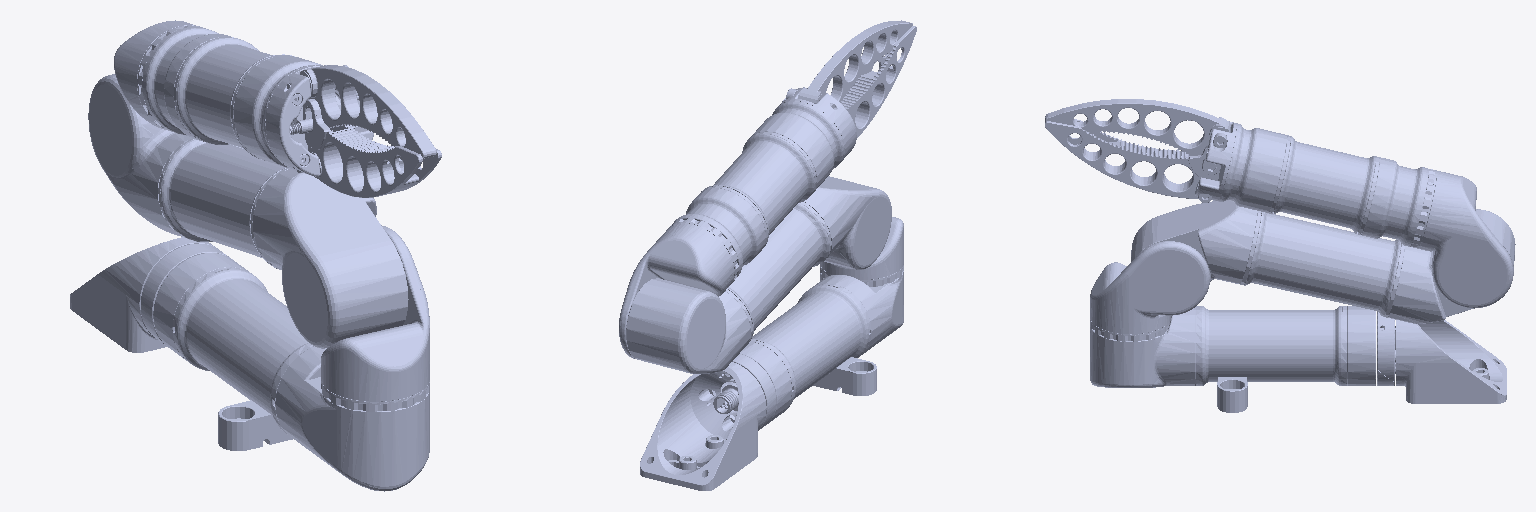
The robot description file, URDF, robot "reachAlpha":
<?xml version="1.0" encoding="utf-8"?>
<!-- This URDF was automatically created by SolidWorks to URDF Exporter! Originally created by [author] ([email redacted]) 
     Commit Version: 1.6.0-1-g15f4949  Build Version: 1.6.7594.29634
     For more information, please see http://wiki.ros.org/sw_urdf_exporter -->
<robot name="reachAlpha">

    <link name="world"/>
    <joint name="fixed" type="fixed">
      <parent link="world" />
      <child link="first_link" />
      <origin xyz="0.0 0.0 0.0" rpy="0 -1.57 0" />
    </joint>

    <!--___________________________________________________________________________________________________________________-->
    <!-- LINK: FIRST LINK-->
    <link name="first_link">
      <inertial>
        <origin xyz="0.16236 0.16631 -0.070717" rpy="0 0 0"/>
        <mass value="0.59681" />
        <inertia ixx="0.0016912" ixy="0.0" ixz="0.00039211" iyy="0.0034071" iyz="0.0" izz="0.0018492" />
      </inertial>

      <visual>
        <origin xyz="0 0 0" rpy="0 0 0" />
        <geometry>
          <mesh filename="package://reachAlpha/meshes/first_link.STL"/>
        </geometry>
        <material name="">
          <color rgba="0.79216 0.81961 0.93333 1" />
        </material>
      </visual>
      
      <collision>
        <origin xyz="0 0 0" rpy="0 0 0" />
        <geometry>
          <mesh filename="package://reachAlpha/meshes/first_link.STL" />
        </geometry>
      </collision>
    </link>


    <!--___________________________________________________________________________________________________________________-->
    <!-- LINK: SECOND LINK-->
    <link name="second_link">
      <inertial>
        <origin xyz="0.033 -0.013895 -0.02" rpy="0 0 0" />
        <mass value="0.15" />
        <inertia ixx="0.0008" ixy="0.0" ixz="0.00019" iyy="0.00019" iyz="0.0" izz="0.0009"/>
      </inertial>
      
      <visual>
        <origin xyz="0 0 0" rpy="0 0 0"/>
        <geometry>
          <mesh filename="package://reachAlpha/meshes/second_link.STL" />
        </geometry>
        <material name="">
          <color rgba="0.79216 0.81961 0.93333 1" />
        </material>
      </visual>

      <collision>
        <origin xyz="0 0 0" rpy="0 0 0" />
        <geometry>
          <mesh filename="package://reachAlpha/meshes/second_link.STL" />
        </geometry>
      </collision>
    </link>

    <!-- JOINT: FIRST TO SECOND-->
    <joint name="first_to_second" type="revolute">
      <origin xyz="0.11187 -0.0032667 0.16685" rpy="1.5412 0 0"/>
      <parent link="first_link"/>
      <child link="second_link"/>
      <axis xyz="1 0 0" />
      <limit lower="-3.14159265" upper="3.14159265" effort="150.0" velocity="3.5" />
    </joint>

    <!--___________________________________________________________________________________________________________________-->
    <!-- LINK: THIRD LINK-->
    <link name="third_link">
      <inertial>
        <origin xyz="0.020201 -0.013885 -0.07338" rpy="0 0 0" />
        <mass value="0.59681" />
        <inertia ixx="0.0016912" ixy="0.0" ixz="0.00039211" iyy="0.0034071" iyz="0.0" izz="0.0018492" />
      </inertial>

      <visual>
        <origin xyz="0 0 0" rpy="0 0 0" />
        <geometry>
          <mesh filename="package://reachAlpha/meshes/third_link.STL" />
        </geometry>
        <material name="">
          <color rgba="0.79216 0.81961 0.93333 1" />
        </material>
      </visual>

      <collision>
        <origin xyz="0 0 0" rpy="0 0 0" />
        <geometry>
          <mesh filename="package://reachAlpha/meshes/third_link.STL" />
        </geometry>
      </collision>
    </link>

    <!-- JOINT: SECOND TO THIRD-->
    <joint name="second_to_third" type="revolute">
      <origin xyz="0.033 0 -0.02" rpy="0 0.23064 0" />
      <parent link="second_link" />
      <child link="third_link" />
      <axis xyz="0 1 0" />
      <limit lower="-2.1" upper="1.33" effort="150.0" velocity="3.5" />
    </joint>

    <!--___________________________________________________________________________________________________________________-->
    <!-- LINK: FORTH LINK-->
    <link name="forth_link">
      <inertial>
        <origin xyz="0 -0.013895 -2.7756E-17" rpy="0 0 0" />
        <mass value="0.15" />
        <inertia ixx="0.0008" ixy="0.0" ixz="0.00019" iyy="0.00019" iyz="0.0" izz="0.0009"/>
      </inertial>

      <visual>
        <origin xyz="0 0 0" rpy="0 0 0" />
        <geometry>
          <mesh filename="package://reachAlpha/meshes/forth_link.STL" />
        </geometry>
        <material name="">
          <color rgba="0.79216 0.81961 0.93333 1" />
        </material>
      </visual>

      <collision>
        <origin xyz="0 0 0" rpy="0 0 0" />
        <geometry>
          <mesh filename="package://reachAlpha/meshes/forth_link.STL" />
        </geometry>
      </collision>
    </link>

    <!-- JOINT: THIRD TO FORTH-->
    <joint name="third_to_forth" type="revolute">
      <origin xyz="0.04 0 -0.1453" rpy="0 0 0" />
      <parent link="third_link" />
      <child link="forth_link" />
      <axis xyz="0 1 0" />
      <limit lower="0" upper="3.48159265" effort="150.0" velocity="3.5" />
    </joint>

    <!--___________________________________________________________________________________________________________________-->
    <!-- LINK: FIFTH LINK-->
    <link name="fifth_link">
      <inertial>
        <origin xyz="-0.066779 0.0016758 0.051405" rpy="0 0 0" />
        <mass value="0.59681" />
        <inertia ixx="0.0016912" ixy="0.0" ixz="0.00039211" iyy="0.0034071" iyz="0.0" izz="0.0018492" />
      </inertial>

      <visual>
        <origin xyz="0 0 0" rpy="0 0 0" />
        <geometry>
          <mesh filename="package://reachAlpha/meshes/fifth_link.STL" />
        </geometry>
        <material name="">
          <color rgba="0.79216 0.81961 0.93333 1" />
        </material>
      </visual>

      <collision>
        <origin xyz="0 0 0" rpy="0 0 0" />
        <geometry>
          <mesh filename="package://reachAlpha/meshes/fifth_link.STL" />
        </geometry>
      </collision>
    </link>

    <!-- JOINT: FORTH TO FIFTH-->
    <joint name="forth_to_fifth" type="revolute">
      <origin xyz="0.020357 0 0.031107" rpy="0 0 0.00033902" />
      <parent link="forth_link" />
      <child link="fifth_link" />
      <axis xyz="0.011438 0 0.99993" />
      <limit lower="-3.14159265" upper="3.14159265" effort="150.0" velocity="3.5" />
    </joint>

    <transmission name="trans_reach_joint_1">
        <type>transmission_interface/SimpleTransmission</type>
        <joint name="first_to_second">
            <hardwareInterface>hardware_interface/PositionJointInterface</hardwareInterface>
        </joint>
        <actuator name="reach_joint_1_motor">
            <hardwareInterface>hardware_interface/PositionJointInterface</hardwareInterface>
            <mechanicalReduction>1</mechanicalReduction>
        </actuator>
    </transmission>
    <transmission name="trans_reach_joint_2">
        <type>transmission_interface/SimpleTransmission</type>
        <joint name="second_to_third">
            <hardwareInterface>hardware_interface/PositionJointInterface</hardwareInterface>
        </joint>
        <actuator name="reach_joint_2_motor">
            <hardwareInterface>hardware_interface/PositionJointInterface</hardwareInterface>
            <mechanicalReduction>1</mechanicalReduction>
        </actuator>
    </transmission>

   <transmission name="trans_reach_joint_3">
        <type>transmission_interface/SimpleTransmission</type>
        <joint name="third_to_forth">
            <hardwareInterface>hardware_interface/PositionJointInterface</hardwareInterface>
        </joint>
        <actuator name="reach_joint_3_motor">
            <hardwareInterface>hardware_interface/PositionJointInterface</hardwareInterface>
            <mechanicalReduction>1</mechanicalReduction>
        </actuator>
    </transmission>
   <transmission name="trans_reach_joint_4">
        <type>transmission_interface/SimpleTransmission</type>
        <joint name="forth_to_fifth">
            <hardwareInterface>hardware_interface/PositionJointInterface</hardwareInterface>
        </joint>
        <actuator name="reach_joint_4_motor">
            <hardwareInterface>hardware_interface/PositionJointInterface</hardwareInterface>
            <mechanicalReduction>1</mechanicalReduction>
        </actuator>
    </transmission>

    <gazebo>
        <plugin name="gazebo_ros_control" filename="libgazebo_ros_control.so">
            <robotNamespace>reachAlpha</robotNamespace>
        </plugin>
    </gazebo>

</robot>

--- What the picture shows (computed from the rendered views, not written in the file) ---
3 views of the same robot in one strip: view 1: azimuth 30°, elevation 25°; view 2: azimuth 150°, elevation 25°; view 3: azimuth 270°, elevation 25° (orthographic).
Model reachAlpha with 6 links and 5 joints (4 revolute, 1 fixed), rooted at world, posed all joints at 0.
Links seen in each view (by area): view 1: first_link, third_link, fifth_link, second_link, forth_link; view 2: first_link, third_link, fifth_link, forth_link, second_link; view 3: first_link, fifth_link, third_link, forth_link, second_link.
Link boxes in pixels (x1,y1,x2,y2): first_link: (70, 237, 429, 491); third_link: (88, 74, 408, 348); fifth_link: (142, 27, 441, 197); second_link: (321, 225, 429, 411); forth_link: (114, 20, 202, 130); first_link: (640, 271, 903, 490); third_link: (626, 176, 891, 373); fifth_link: (672, 20, 916, 276); forth_link: (619, 218, 738, 358); second_link: (820, 217, 903, 286); first_link: (1090, 306, 1506, 412); fifth_link: (1045, 99, 1428, 246); third_link: (1131, 200, 1515, 323); forth_link: (1411, 169, 1513, 307); second_link: (1090, 241, 1209, 341).
Size in the robot's own frame: 0.0639 by 0.2336 by 0.1603 metres.
Meshes: 5 distinct files referenced, 5 mesh visuals loaded (5 binary STL).